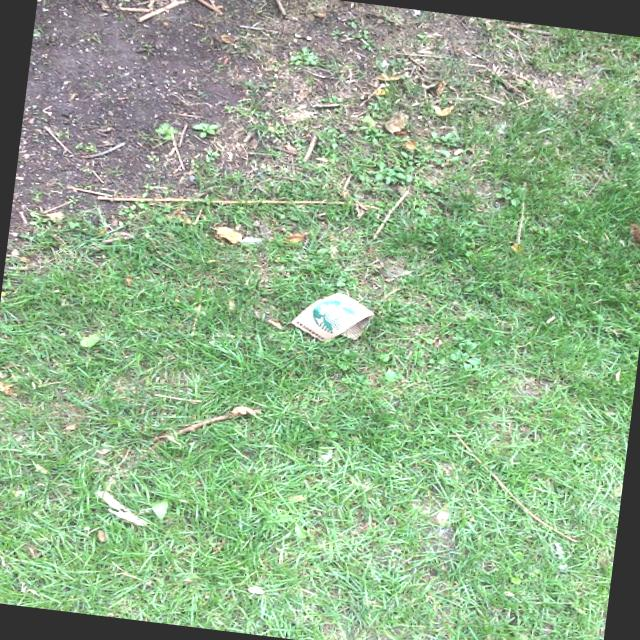Trash: (288, 284, 377, 346)
